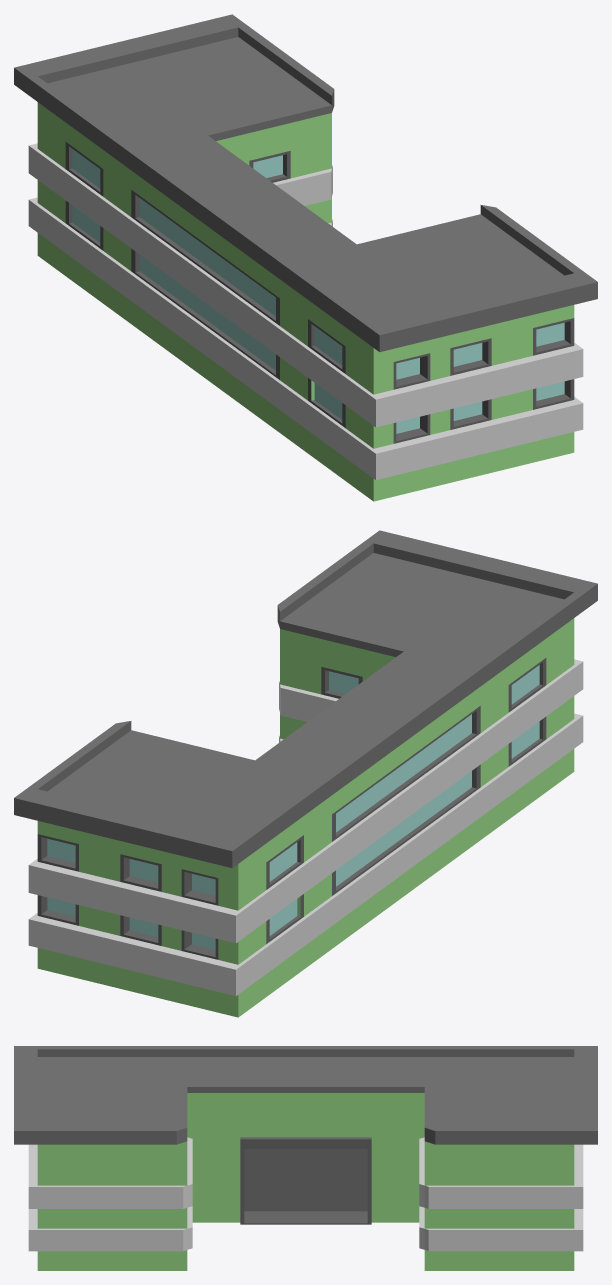
The model's file is School 1.fbx.
3 views of the same model, one above another, from view 1: azimuth 30°, elevation 25°; view 2: azimuth 150°, elevation 25°; view 3: azimuth 270°, elevation 25° (orthographic). The views are drawn at different scales.
Parts seen in each view (by area): view 1: pCube13; view 2: pCube13; view 3: pCube13.
Part boxes in pixels (box(x1,y1,x2,y2)): pCube13: box(14, 14, 597, 501); pCube13: box(14, 530, 597, 1017); pCube13: box(14, 1046, 597, 1270).
Size of the model in its own units: 28.53 by 22.4 by 82.73.
